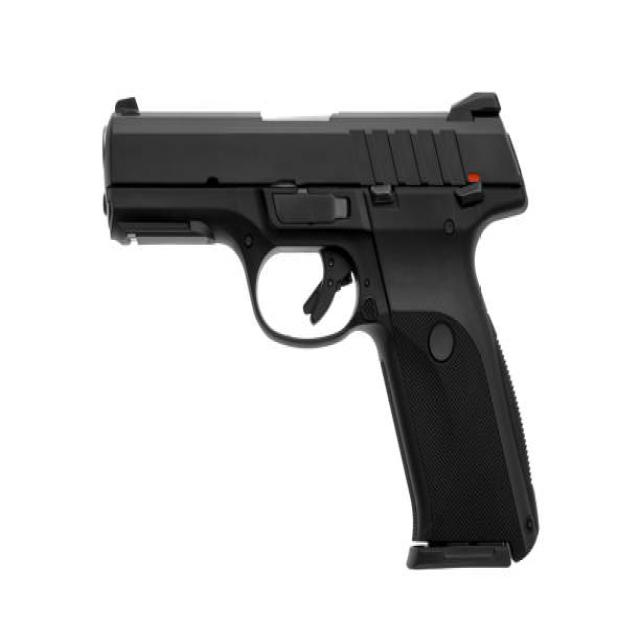pistol: (93, 77, 551, 584)
